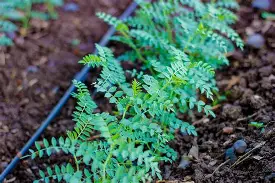crops: (26, 3, 239, 179), (85, 136, 161, 181), (187, 2, 243, 55), (27, 131, 91, 175), (0, 17, 18, 44)
